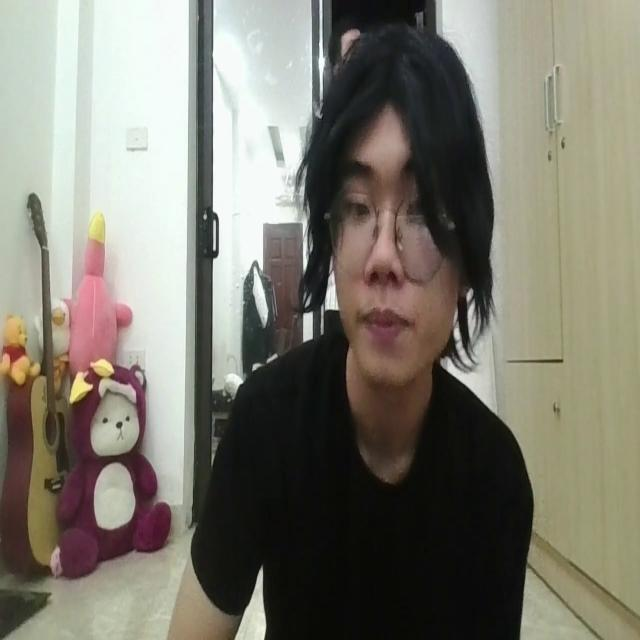student: (165, 19, 533, 640)
